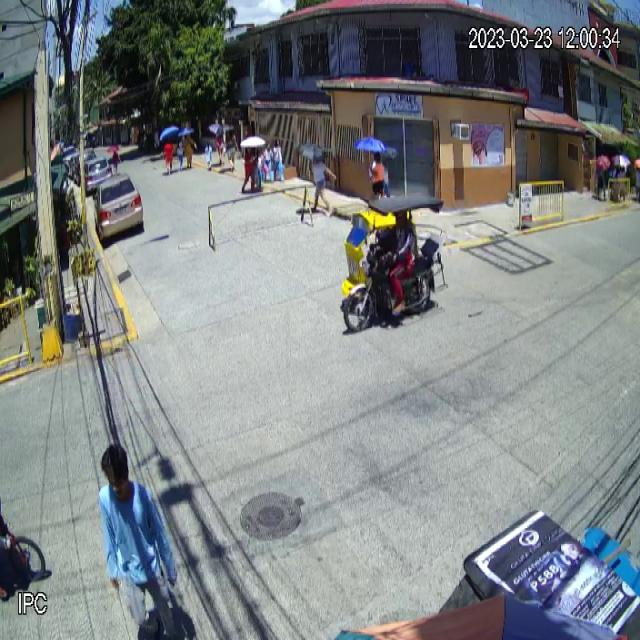Tricycle: (337, 187, 439, 339)
